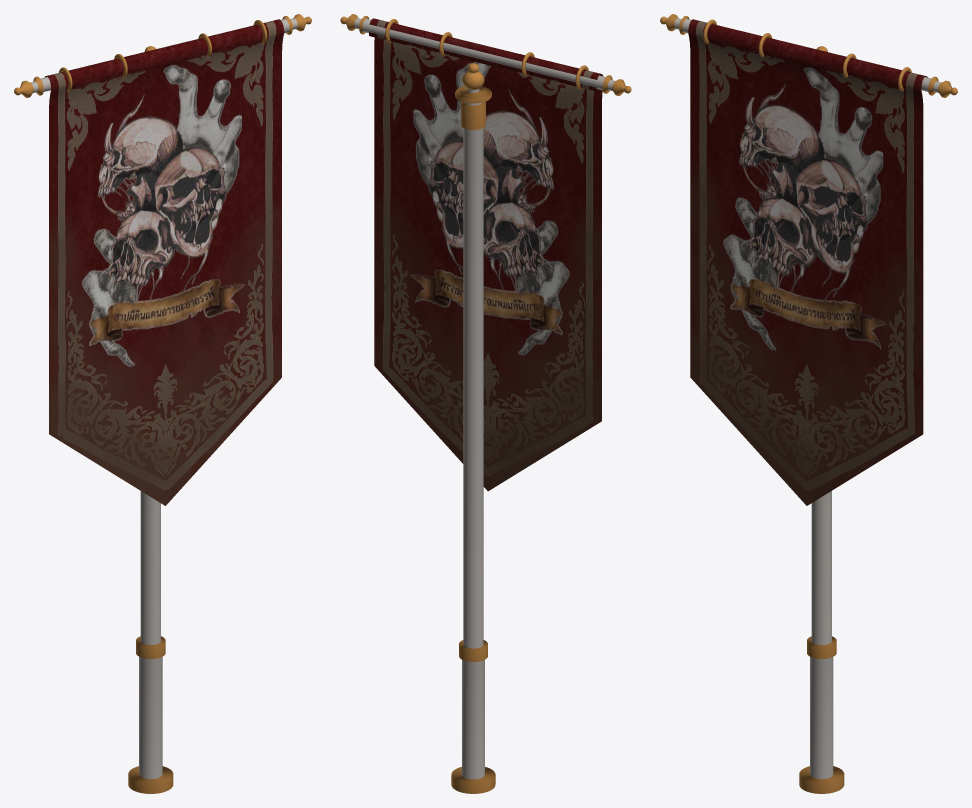
Rendered from Fine_art_flag.glb.
The picture shows the model from 3 angles, left to right: view 1: azimuth 30°, elevation 25°; view 2: azimuth 150°, elevation 25°; view 3: azimuth 330°, elevation 25°; orthographic projection. The views are drawn at different scales.
Parts seen in each view (by area): view 1: Plane.001, Cylinder.001, Cylinder.004; view 2: Plane.001, Cylinder.001, Cylinder.004; view 3: Plane.001, Cylinder.001, Cylinder.004.
Boxes of the visible parts, x1,y1,x2,y2 form: Plane.001: (44,19,284,505); Cylinder.001: (128,46,173,793); Cylinder.004: (14,14,311,97); Plane.001: (369,18,602,491); Cylinder.001: (451,63,495,793); Cylinder.004: (340,14,631,95); Plane.001: (688,19,927,505); Cylinder.001: (799,46,844,793); Cylinder.004: (660,14,957,97).
Size of the model in its own units: 7.34 by 17.71 by 1.31.
Materials: 4 (4 with a texture image).
